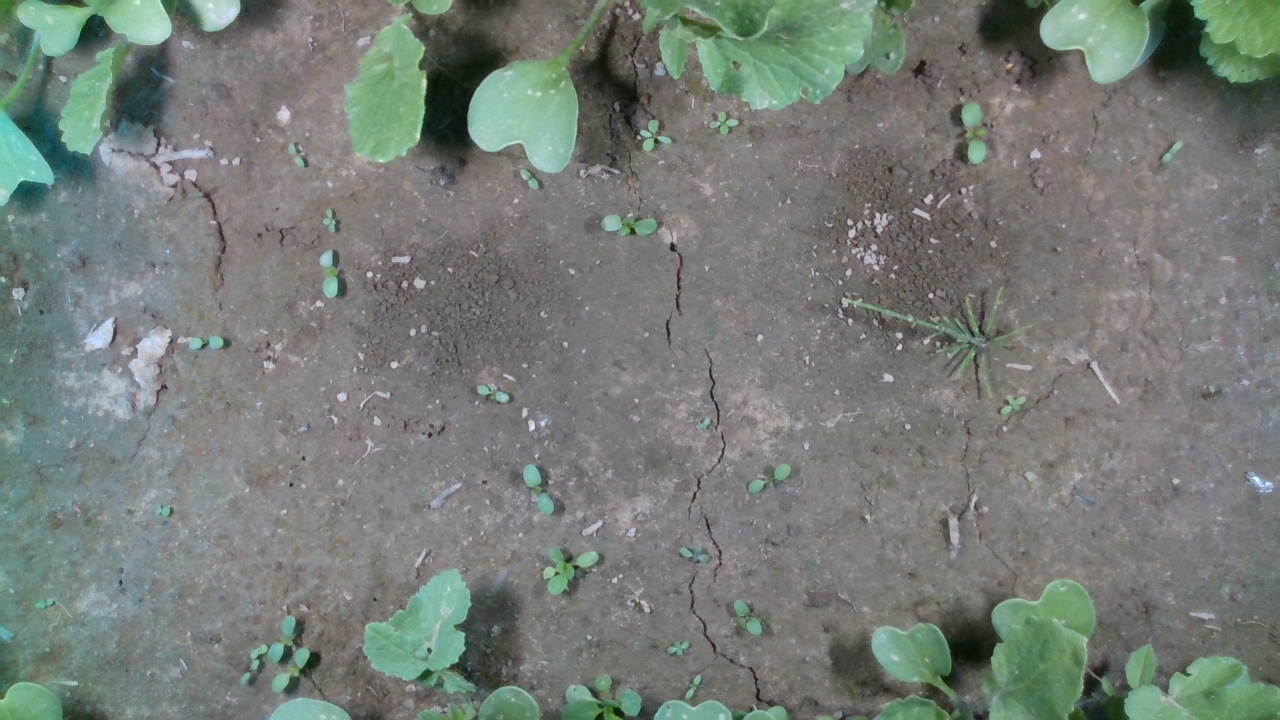weed: (540, 544, 600, 595), (522, 462, 555, 517), (961, 99, 987, 165), (747, 462, 793, 496), (598, 213, 659, 238), (731, 598, 763, 636), (317, 248, 340, 298), (707, 108, 741, 136), (185, 333, 224, 352), (474, 384, 510, 403), (679, 544, 711, 564), (240, 657, 260, 685), (1001, 394, 1027, 415), (519, 168, 540, 192), (685, 672, 703, 700), (288, 142, 306, 167), (320, 207, 336, 234), (666, 639, 689, 656)
